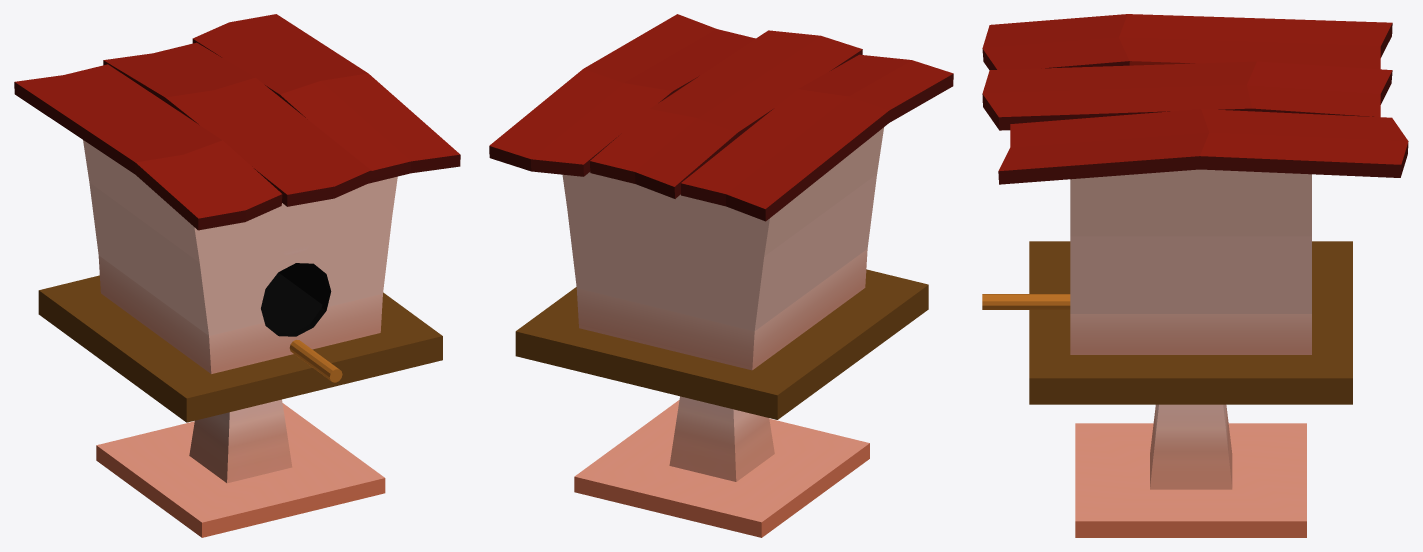
Rendered from CasinhaPassarinho.glb.
3 views of the same model, side by side, from view 1: azimuth 30°, elevation 25°; view 2: azimuth 150°, elevation 25°; view 3: azimuth 270°, elevation 25° (orthographic). The views are drawn at different scales.
Parts seen in each view (by area): view 1: CasinhaPassarinho.001; view 2: CasinhaPassarinho.001; view 3: CasinhaPassarinho.001.
Part boxes in pixels (bbox=[...]): CasinhaPassarinho.001: bbox=[14, 14, 460, 537]; CasinhaPassarinho.001: bbox=[489, 14, 953, 537]; CasinhaPassarinho.001: bbox=[982, 14, 1408, 537].
Bounding box in the file's own units: 1.83 × 2.41 × 2.31.
Materials: 1 (1 with a texture image).
